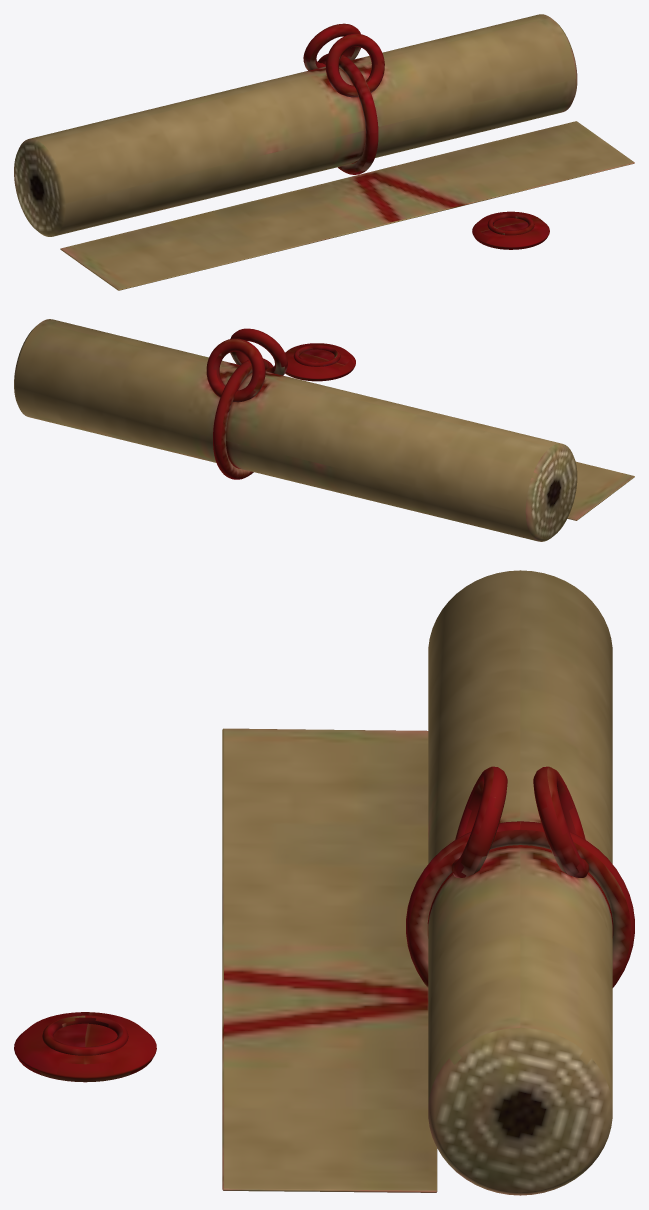
Rendered from land_claim.glb.
3 views of the same model, one above another, from view 1: azimuth 30°, elevation 25°; view 2: azimuth 150°, elevation 25°; view 3: azimuth 270°, elevation 25° (orthographic). The views are drawn at different scales.
Visible parts, largest first — view 1: land_claim; view 2: land_claim; view 3: land_claim.
Part boxes in pixels (left/top/right/bottom): land_claim: left=14, top=14, right=634, bottom=290; land_claim: left=14, top=319, right=634, bottom=541; land_claim: left=14, top=570, right=634, bottom=1195.
Bounding box in the file's own units: 0.32 × 0.083 × 0.1813.
1 material, 1 textured.
